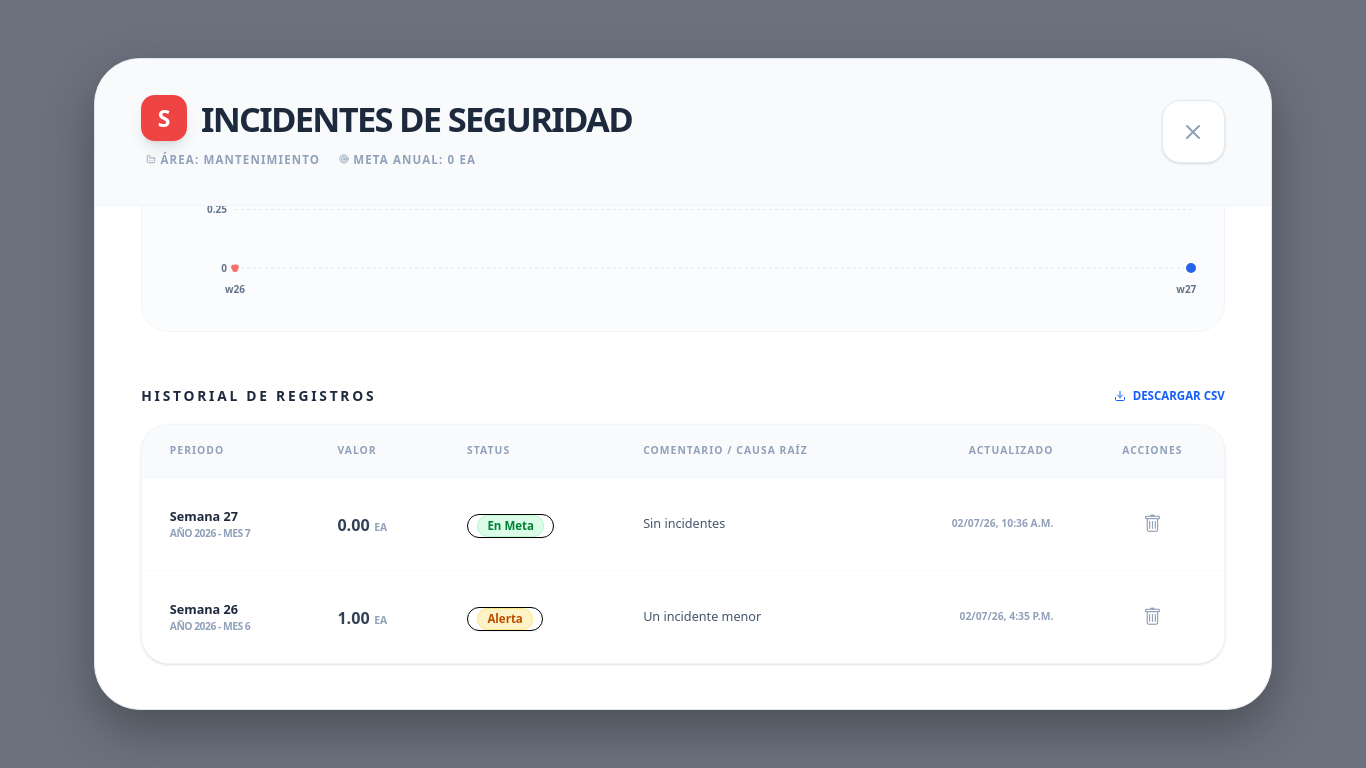
Test: KPIDetailsModal - Pruebas de Eliminación de Histórico y Robustez › debería ejecutar deleteHistorico y volver a consultar el historial tras una confirmación exitosa
(page scrolled)
Click the button titled "Eliminar registro" in the row of "0.00": (1152, 524) left=1134, top=501, right=1171, bottom=547
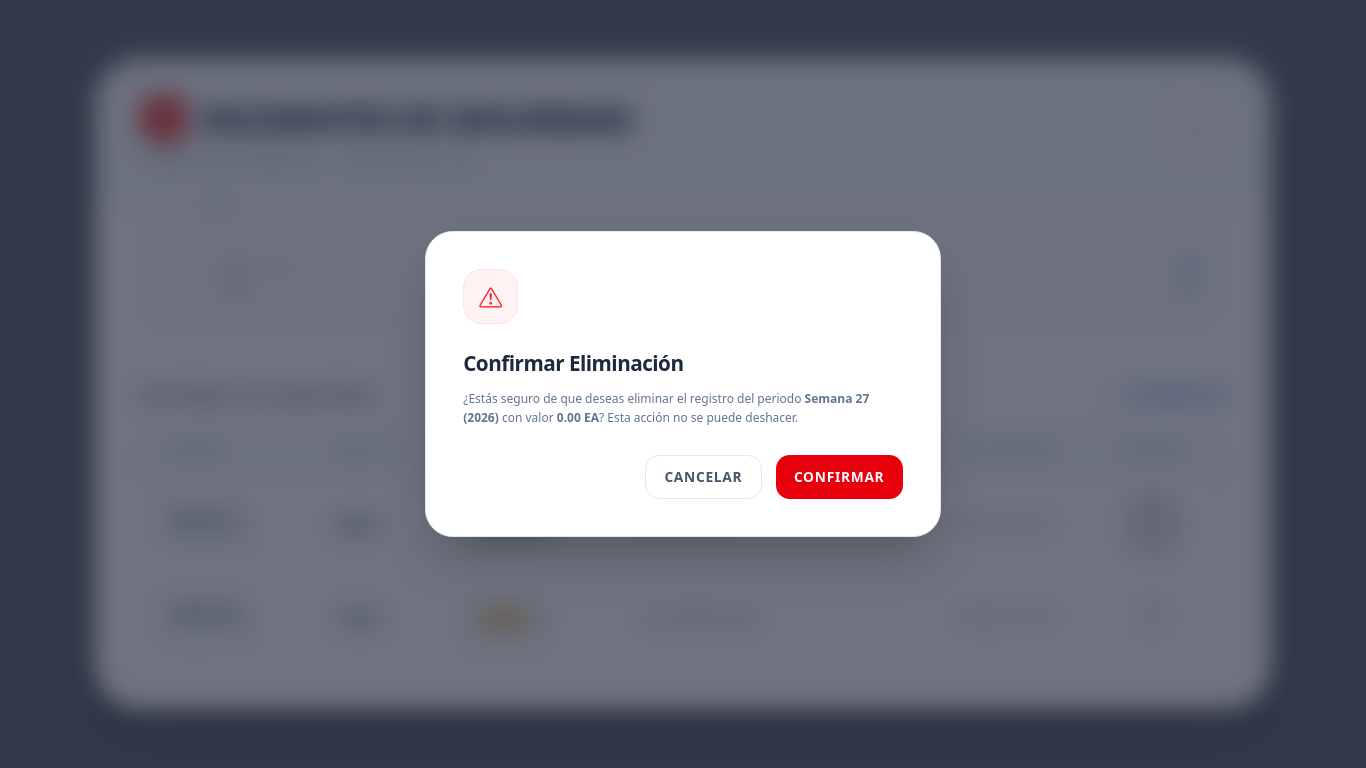
Click the button "Confirmar": (839, 477) left=776, top=455, right=903, bottom=499
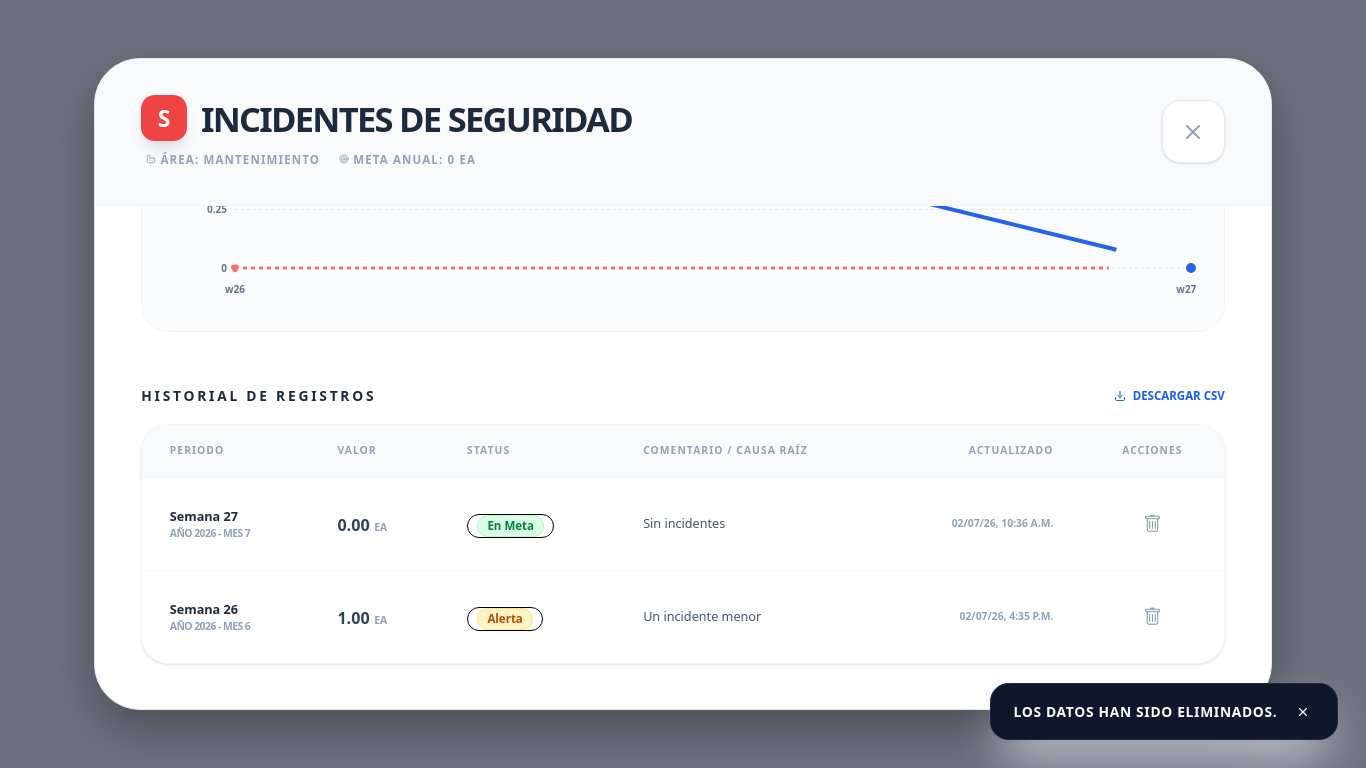
expect the text "Los datos han sido eliminados." is shown: met, box left=1014, top=702, right=1277, bottom=721
